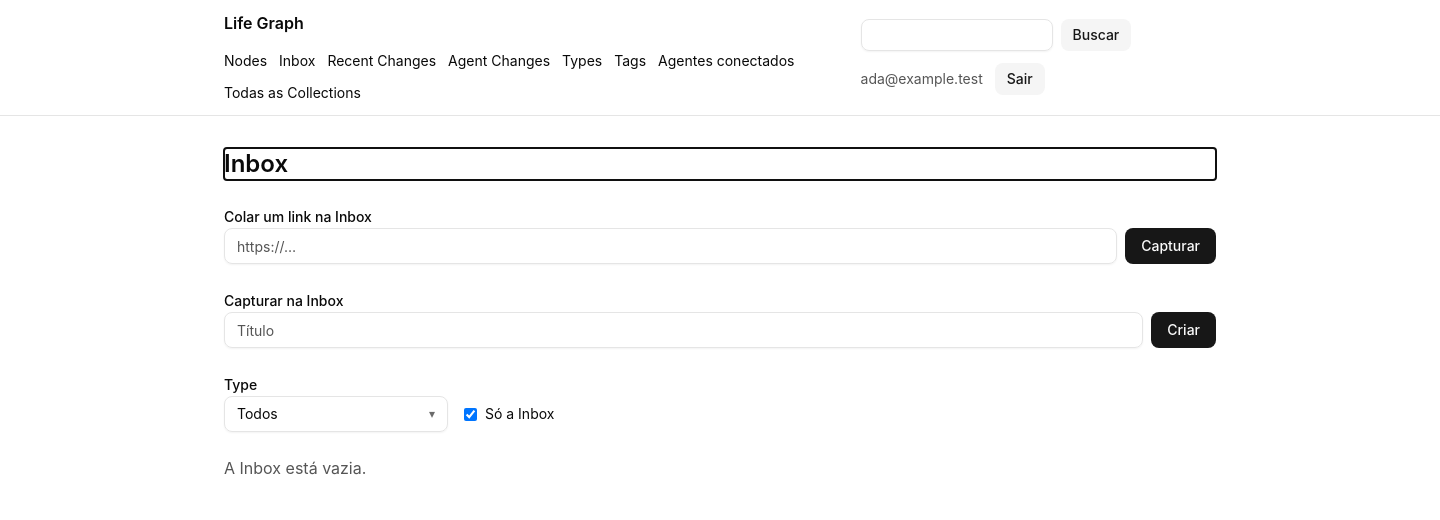
capture by paste › says what a known link did: {"created":false,"alreadyExists":true,"alreadyInInbox":true}
This screenshot has width=1440, height=520.
Type "https://example.test/article?id=7" into the field labelled "Colar um link na Inbox" at [671, 246], box [224,228,1117,264]
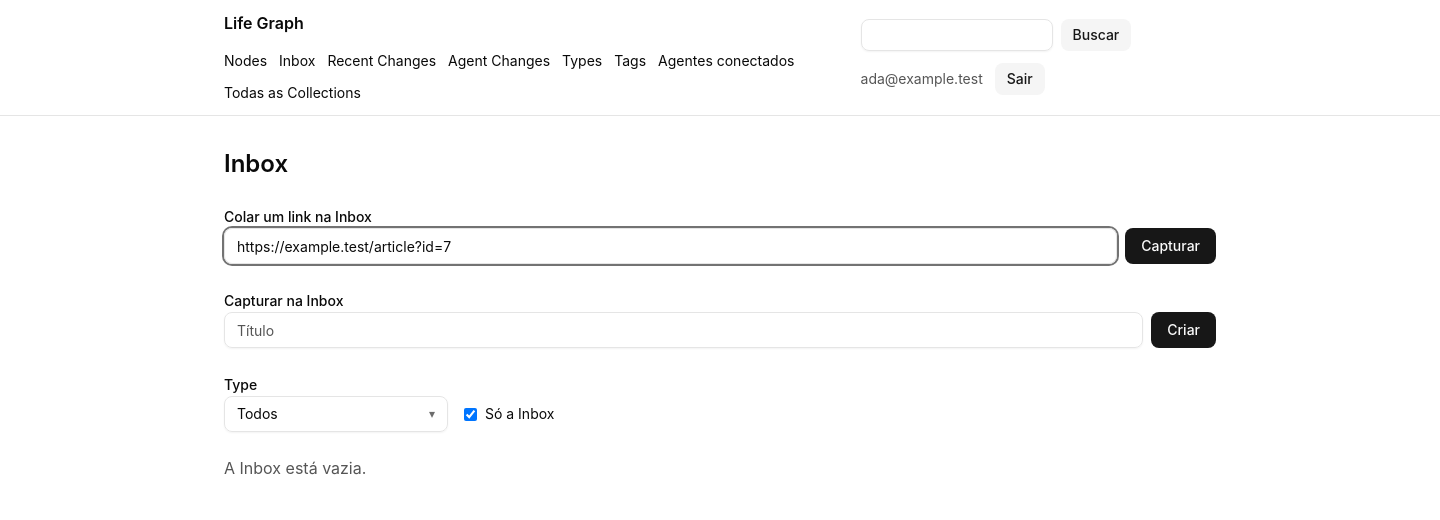
Click the button "Capturar" at [1171, 246], box [1125,228,1216,264]
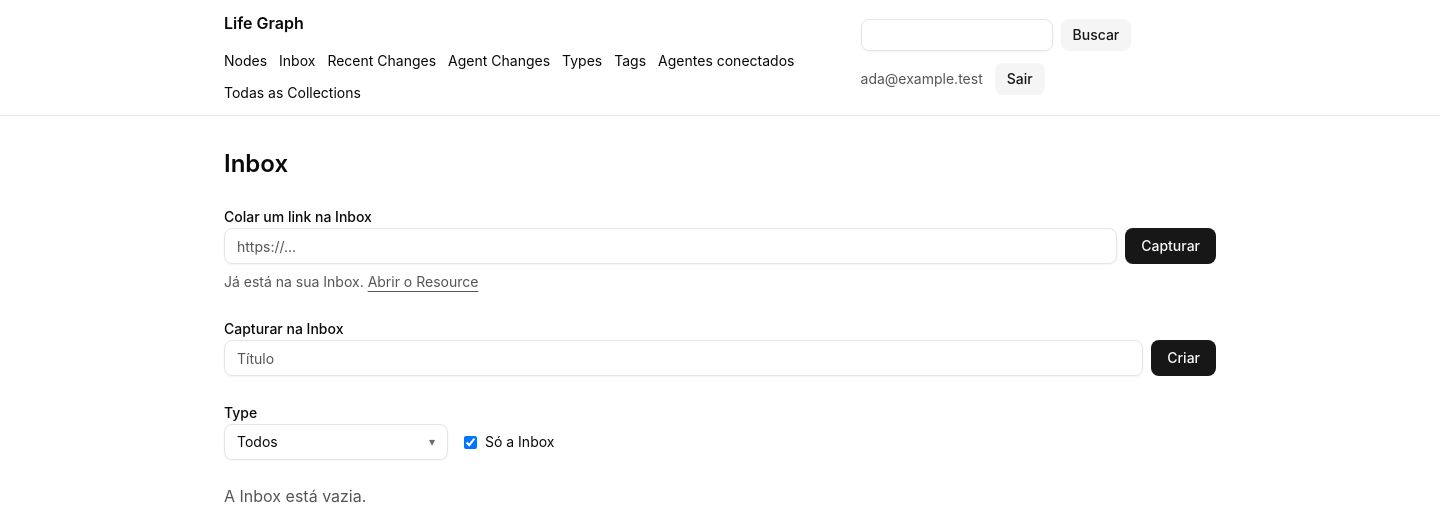
Now the message shows "Já está na sua Inbox.", box [224,273,364,290]
